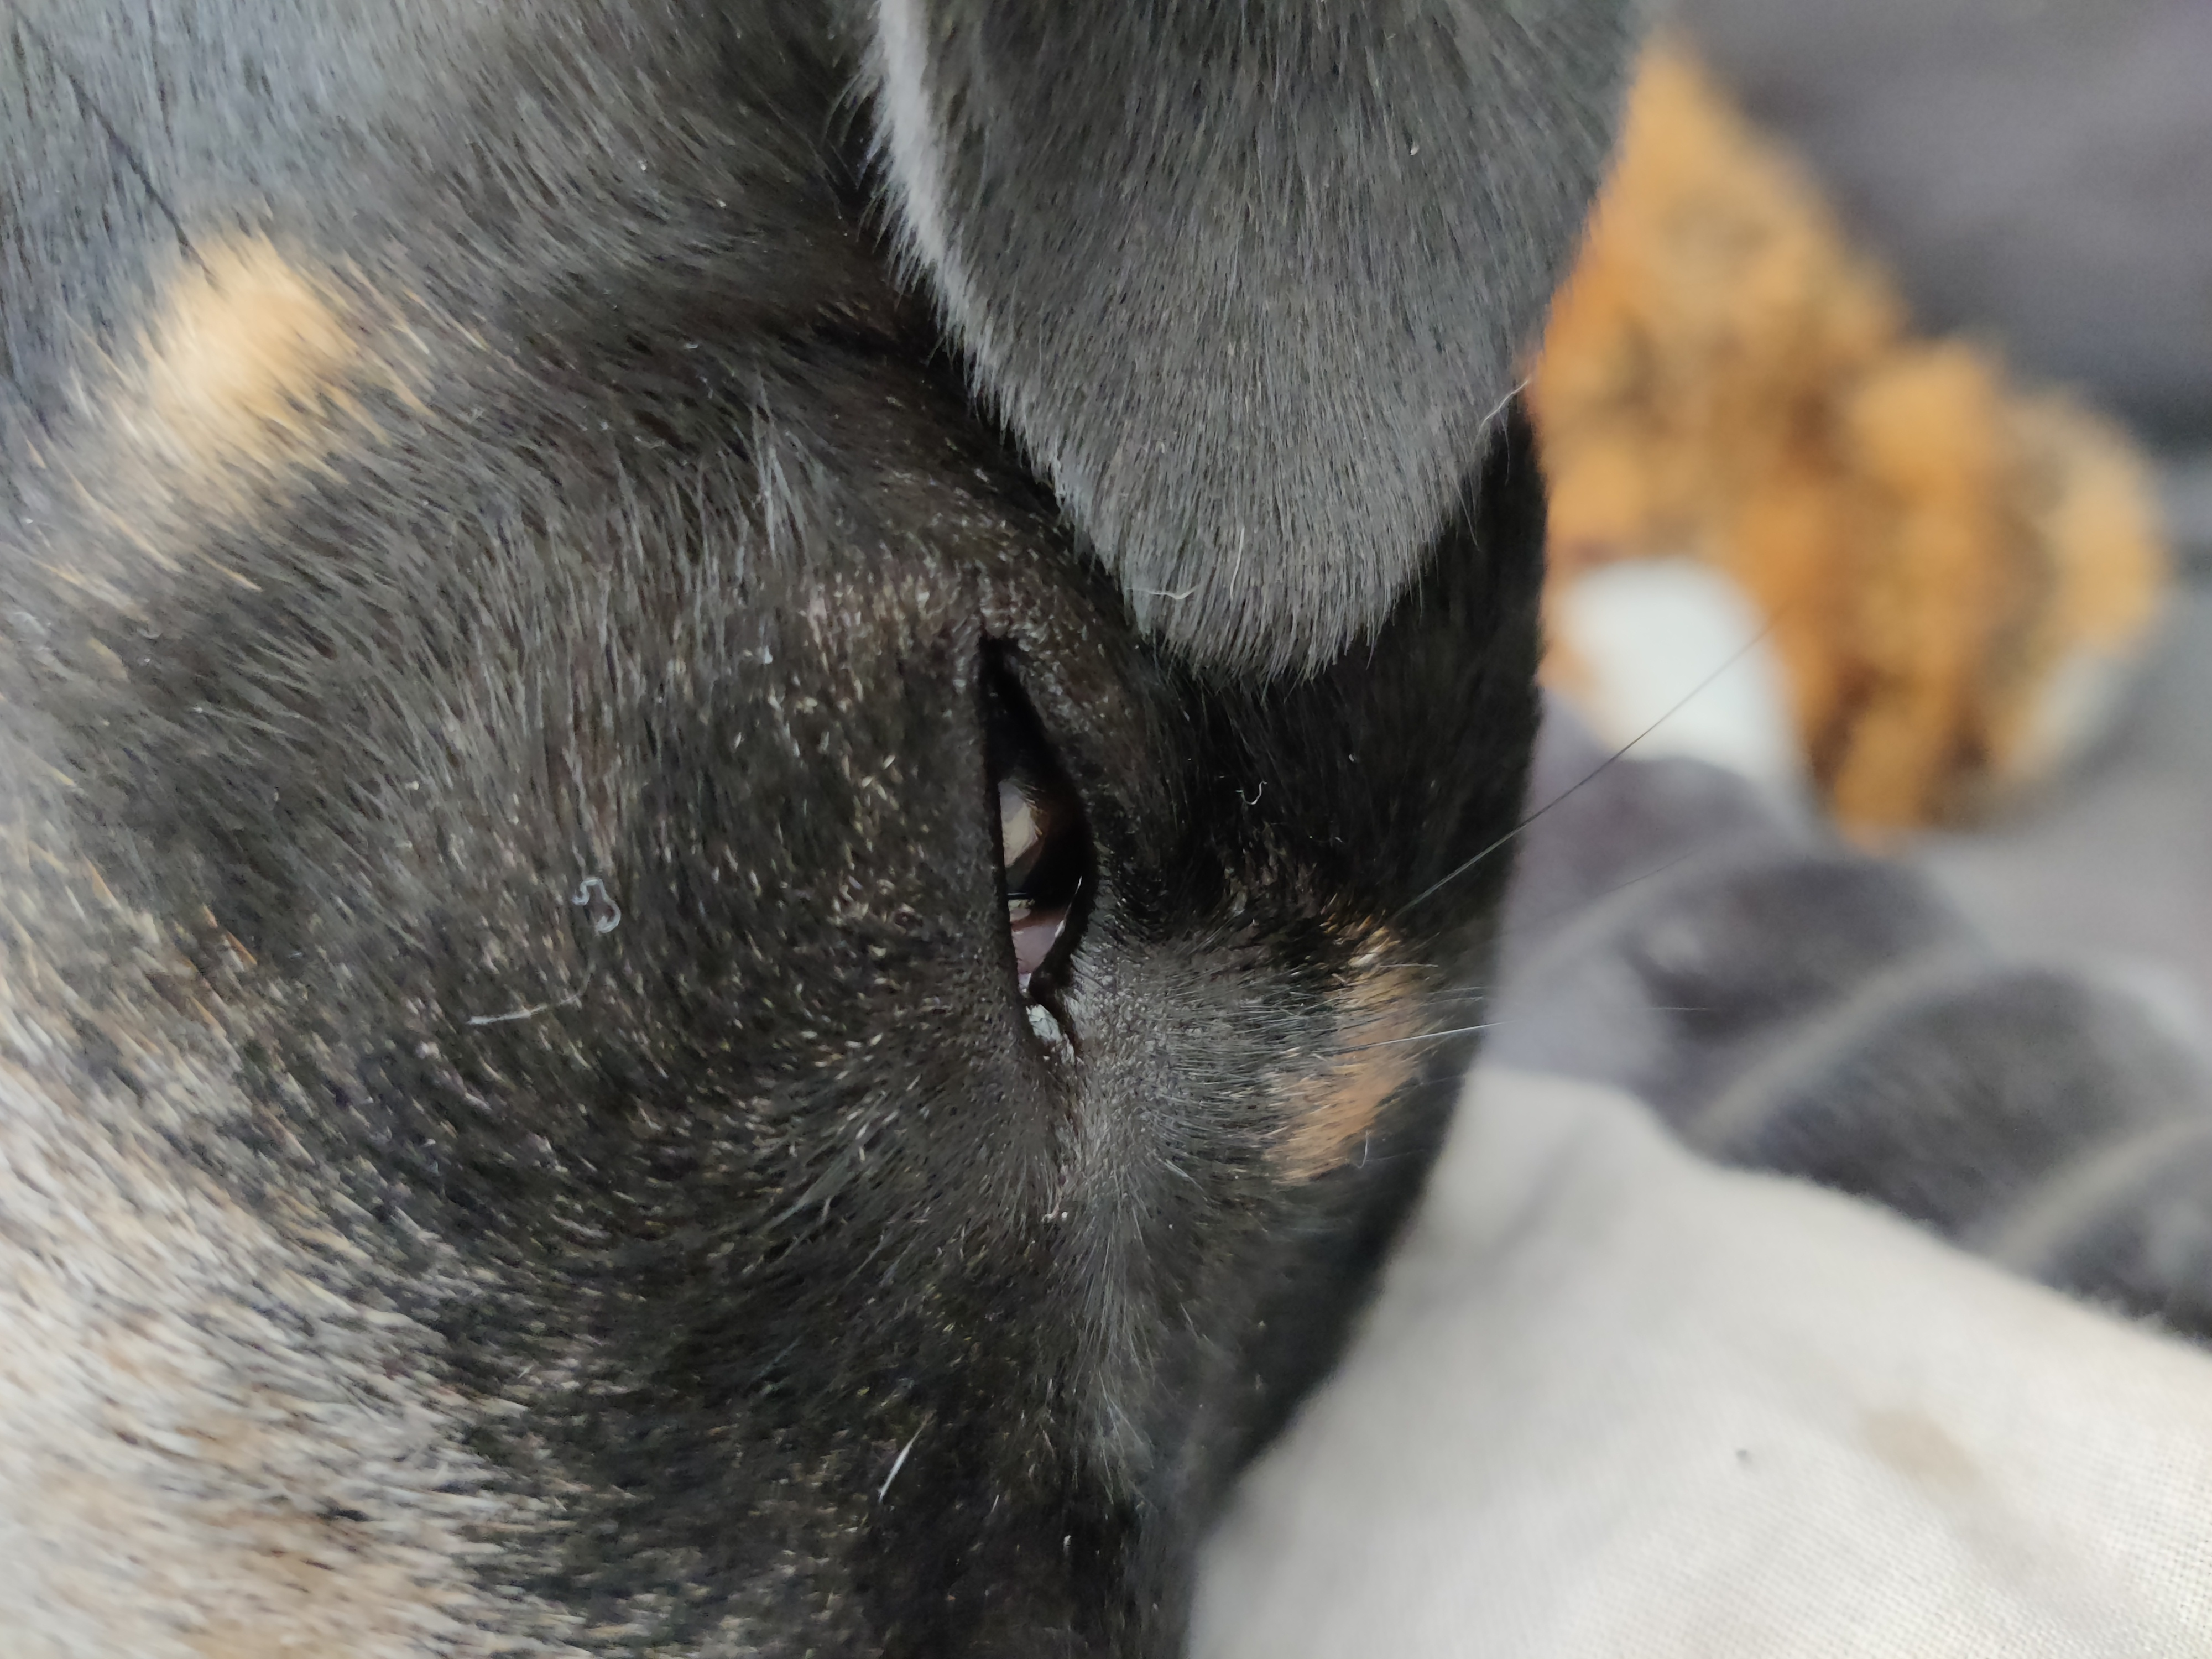Dog: (0, 0, 1667, 1659)
